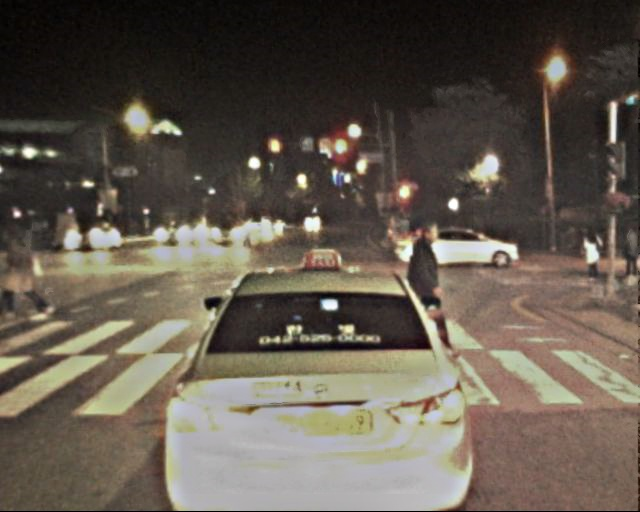person: (402, 223, 460, 364), (1, 218, 57, 316), (579, 227, 604, 288), (619, 227, 640, 283)
